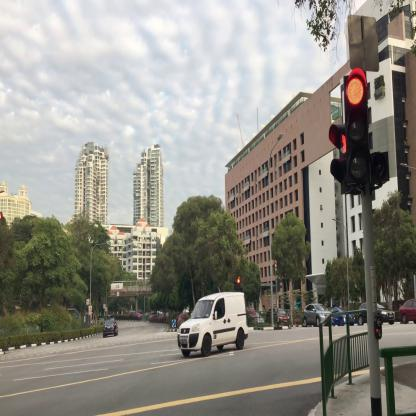red_traffic_light: (346, 74, 371, 184), (237, 278, 240, 291)
